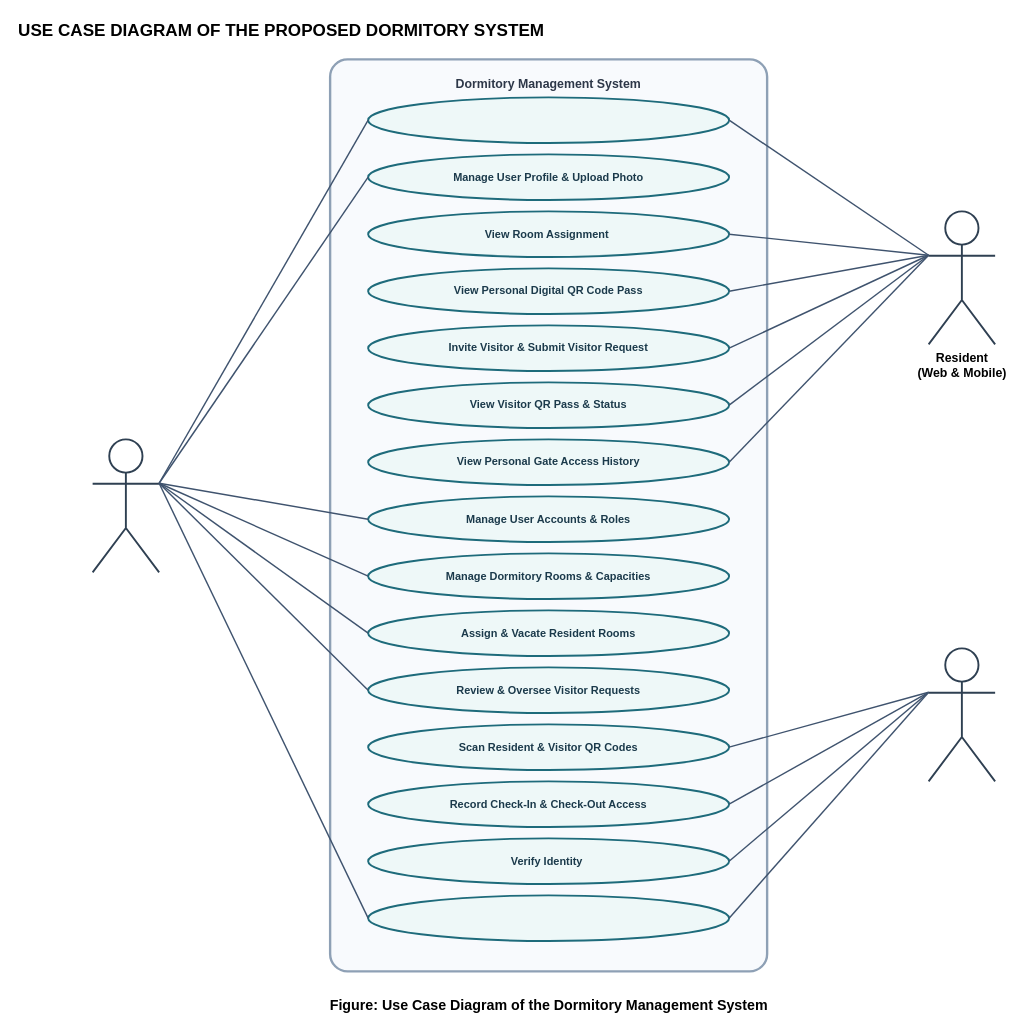
Image size: 1028x1035. Some labels were removed from this diagram. The centre of each missing label's shape, as x and y in pixels:
Administrator (Web): the point at 125,505
Authenticate & Manage Session: the point at 548,119
Security Guard (Mobile Scanner): the point at 961,714
View Audit Logs: the point at 548,917
